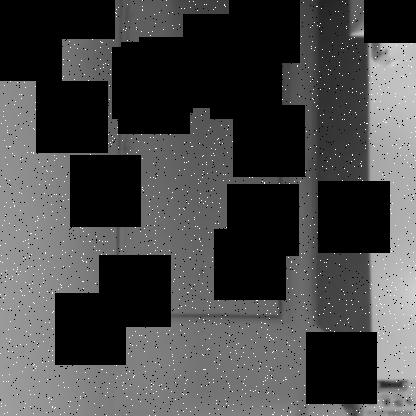Porte: (111, 0, 296, 326)
